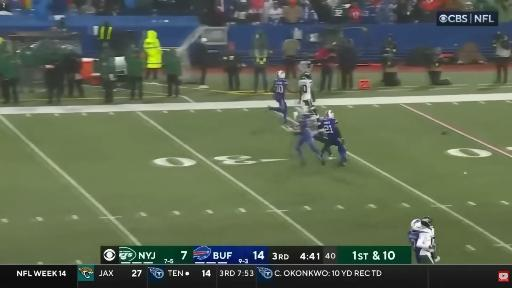Helmet: (420, 216, 432, 229), (410, 219, 421, 231), (276, 70, 285, 79), (301, 72, 311, 79), (326, 110, 334, 118)
Jersey: (417, 227, 434, 255), (319, 118, 341, 139), (408, 230, 420, 261), (298, 79, 313, 103), (299, 115, 315, 137), (274, 79, 287, 102)
Player: (296, 106, 325, 165), (319, 110, 346, 166), (416, 217, 439, 263), (269, 71, 287, 123), (299, 73, 319, 119), (408, 219, 421, 263)
